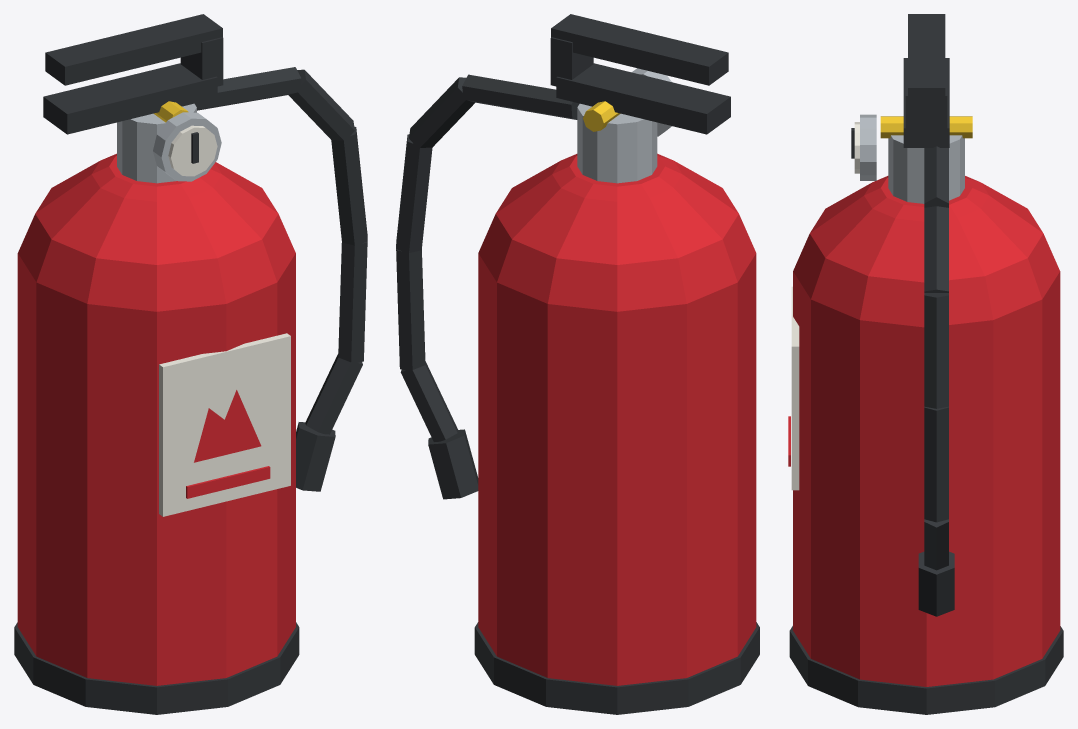
Rendered from fireExtinguisher.glb.
3 views of the same model, side by side, from view 1: azimuth 30°, elevation 25°; view 2: azimuth 150°, elevation 25°; view 3: azimuth 270°, elevation 25° (orthographic). The views are drawn at different scales.
Parts seen in each view (by area): view 1: FireExtinguisher; view 2: FireExtinguisher; view 3: FireExtinguisher.
Part boxes in pixels (x1,y1,x2,y2): FireExtinguisher: [14, 14, 367, 714]; FireExtinguisher: [396, 14, 759, 714]; FireExtinguisher: [788, 14, 1063, 714].
Bounding box in the file's own units: 0.451 × 0.787 × 0.3295.
